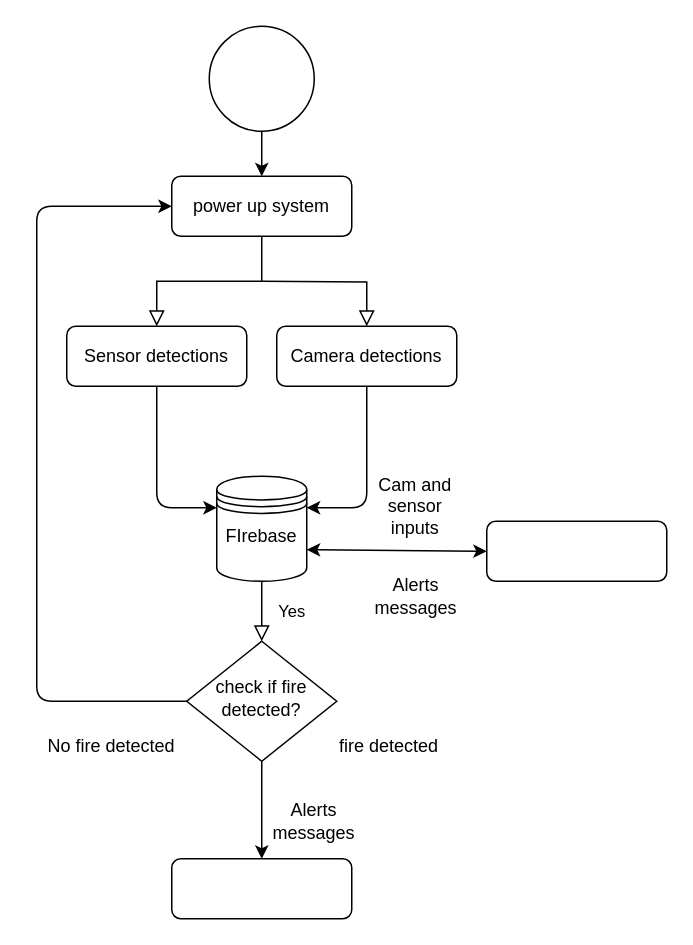
Some shapes in this 693 by 945 pixel diagram are drawn without their labels. Here are the shapes that lost their labels. From the top down, the box of each, then its label:
(208, 25, 314, 131): Start
(485, 520, 667, 581): Deep learing desktop application
(170, 857, 352, 919): Mobile Application
